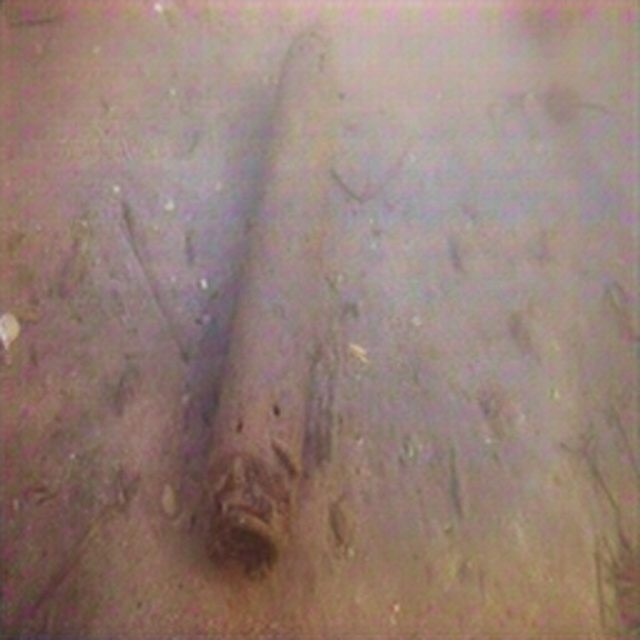mine: (202, 29, 342, 578)
